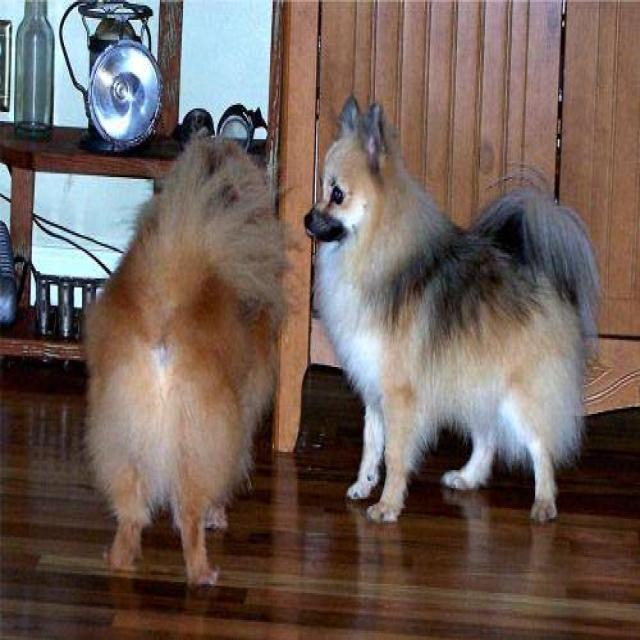dog: (302, 92, 632, 524), (79, 130, 292, 588)
